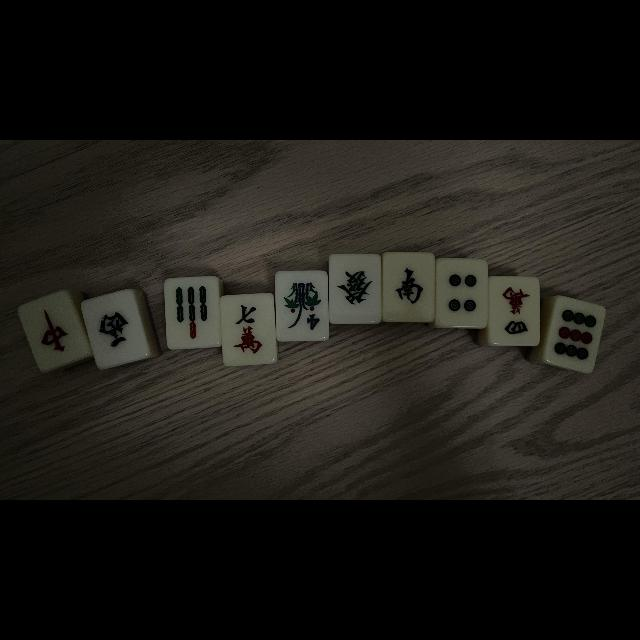b7: (166, 278, 218, 346)
c4: (492, 278, 538, 344)
c7: (222, 296, 274, 364)
d4: (438, 258, 486, 326)
d9: (549, 298, 601, 370)
dg: (330, 254, 380, 322)
dr: (21, 293, 83, 367)
f4-s: (277, 272, 327, 340)
ws: (383, 253, 432, 320)
ww: (85, 292, 147, 366)
